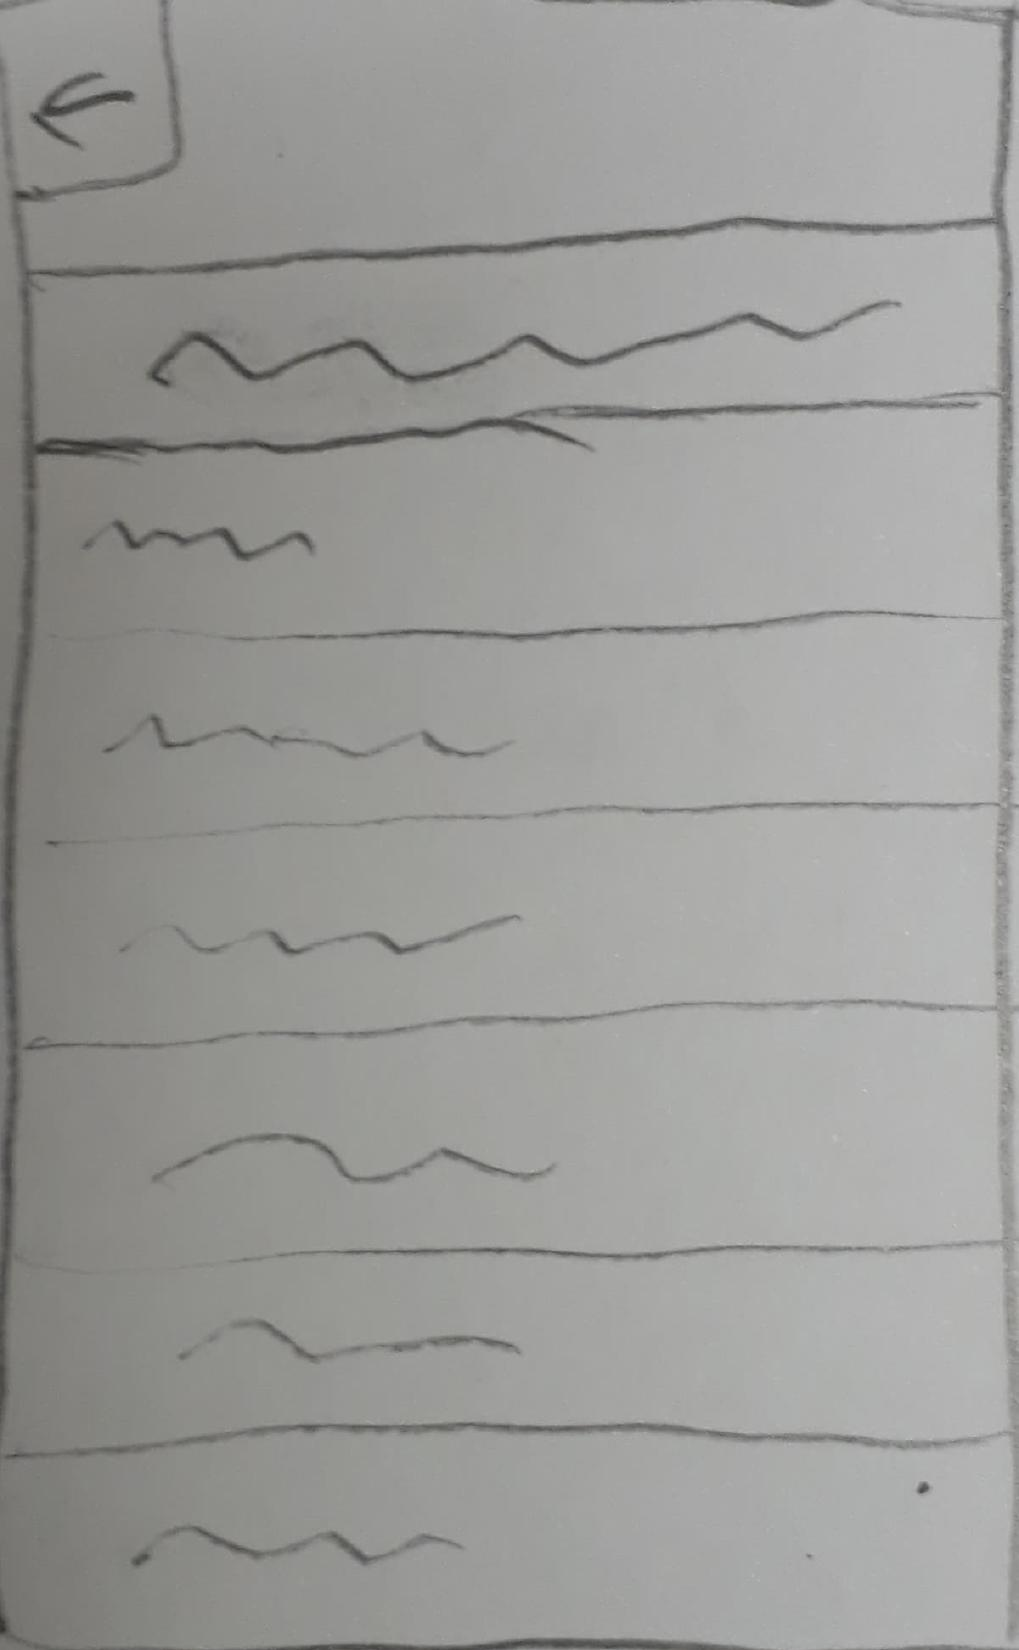Button: (4, 1, 191, 199)
Label: (137, 293, 902, 400), (146, 1128, 557, 1195), (112, 905, 524, 964), (168, 1309, 530, 1375), (97, 712, 518, 761), (124, 1516, 472, 1572), (75, 508, 320, 566)
Screen: (2, 4, 1014, 1646)
